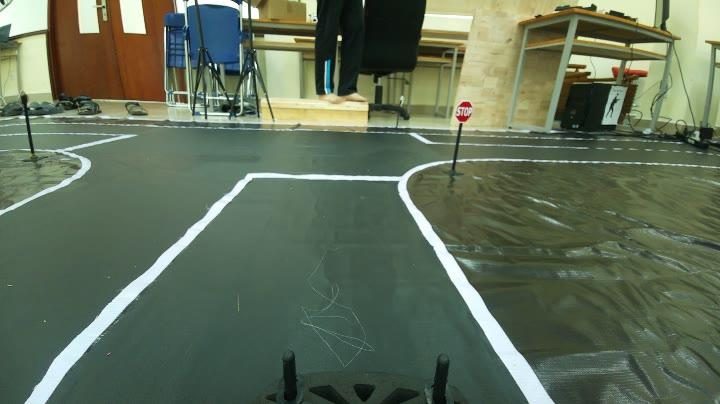stop: (451, 95, 474, 123)
